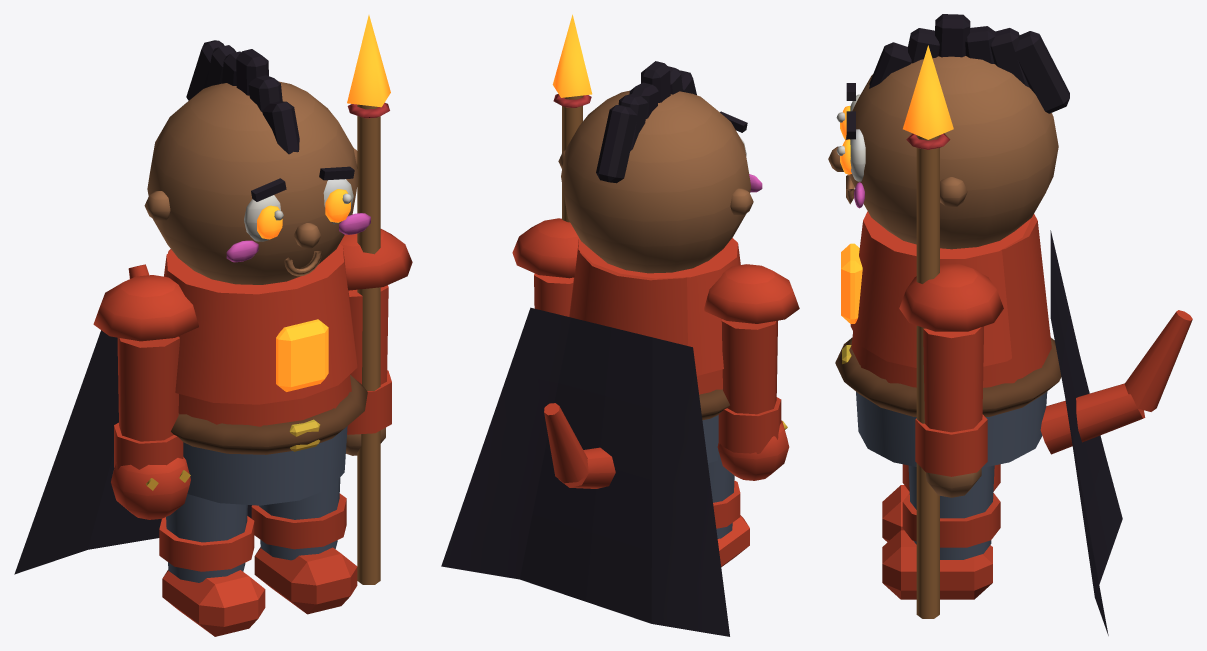
File: hero_drakon.glb
3 views of the same model, side by side, from view 1: azimuth 30°, elevation 25°; view 2: azimuth 150°, elevation 25°; view 3: azimuth 270°, elevation 25° (orthographic). The views are drawn at different scales.
Visible parts, largest first — view 1: body_t0_palette, arml_t0_palette, armr_t0_palette, legl_t0_palette, legr_t0_palette, body_t0_fire, armr_t0_fire; view 2: body_t0_palette, arml_t0_palette, armr_t0_palette, legl_t0_palette, armr_t0_fire; view 3: body_t0_palette, armr_t0_palette, legr_t0_palette, armr_t0_fire, body_t0_fire, legl_t0_palette.
Part boxes in pixels (left/top/right/bottom): body_t0_palette: left=14, top=40, right=370, bottom=574; arml_t0_palette: left=93, top=275, right=198, bottom=519; armr_t0_palette: left=339, top=103, right=412, bottom=584; legl_t0_palette: left=159, top=494, right=265, bottom=636; legr_t0_palette: left=251, top=477, right=357, bottom=614; body_t0_fire: left=257, top=189, right=350, bottom=391; armr_t0_fire: left=347, top=15, right=390, bottom=107; body_t0_palette: left=441, top=61, right=762, bottom=636; arml_t0_palette: left=704, top=264, right=799, bottom=480; armr_t0_palette: left=512, top=94, right=591, bottom=316; legl_t0_palette: left=708, top=451, right=749, bottom=566; armr_t0_fire: left=552, top=14, right=592, bottom=97; body_t0_palette: left=828, top=14, right=1192, bottom=635; armr_t0_palette: left=899, top=133, right=1003, bottom=618; legr_t0_palette: left=882, top=465, right=1000, bottom=599; armr_t0_fire: left=903, top=45, right=953, bottom=139; body_t0_fire: left=840, top=106, right=862, bottom=323; legl_t0_palette: left=882, top=464, right=1000, bottom=542.
Size of the model in its own units: 0.32 by 0.545 by 0.3132.
